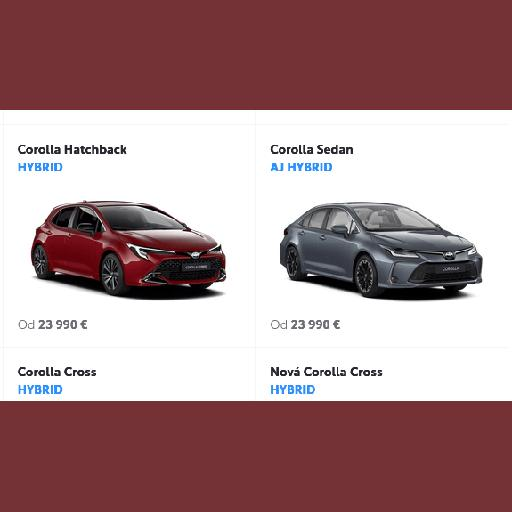hatchback: (280, 204, 482, 295), (32, 201, 224, 294)
